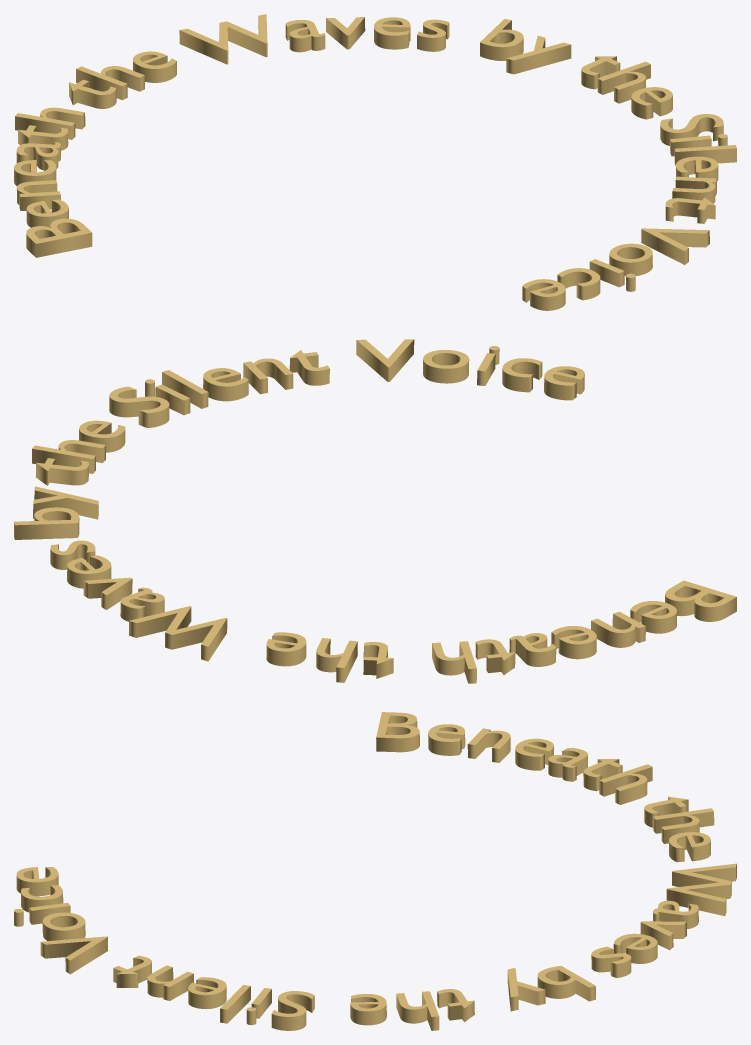
3 views of the same model, one above another, from view 1: azimuth 30°, elevation 25°; view 2: azimuth 150°, elevation 25°; view 3: azimuth 270°, elevation 25° (orthographic). The views are drawn at different scales.
Visible parts, largest first — view 1: Mark5_thewaves; view 2: Mark5_thewaves; view 3: Mark5_thewaves.
Part boxes in pixels (bbox=[...]): Mark5_thewaves: bbox=[14, 14, 736, 310]; Mark5_thewaves: bbox=[14, 339, 736, 683]; Mark5_thewaves: bbox=[14, 712, 736, 1030].
Bounding box in the file's own units: 3.83 × 0.1139 × 3.77.
